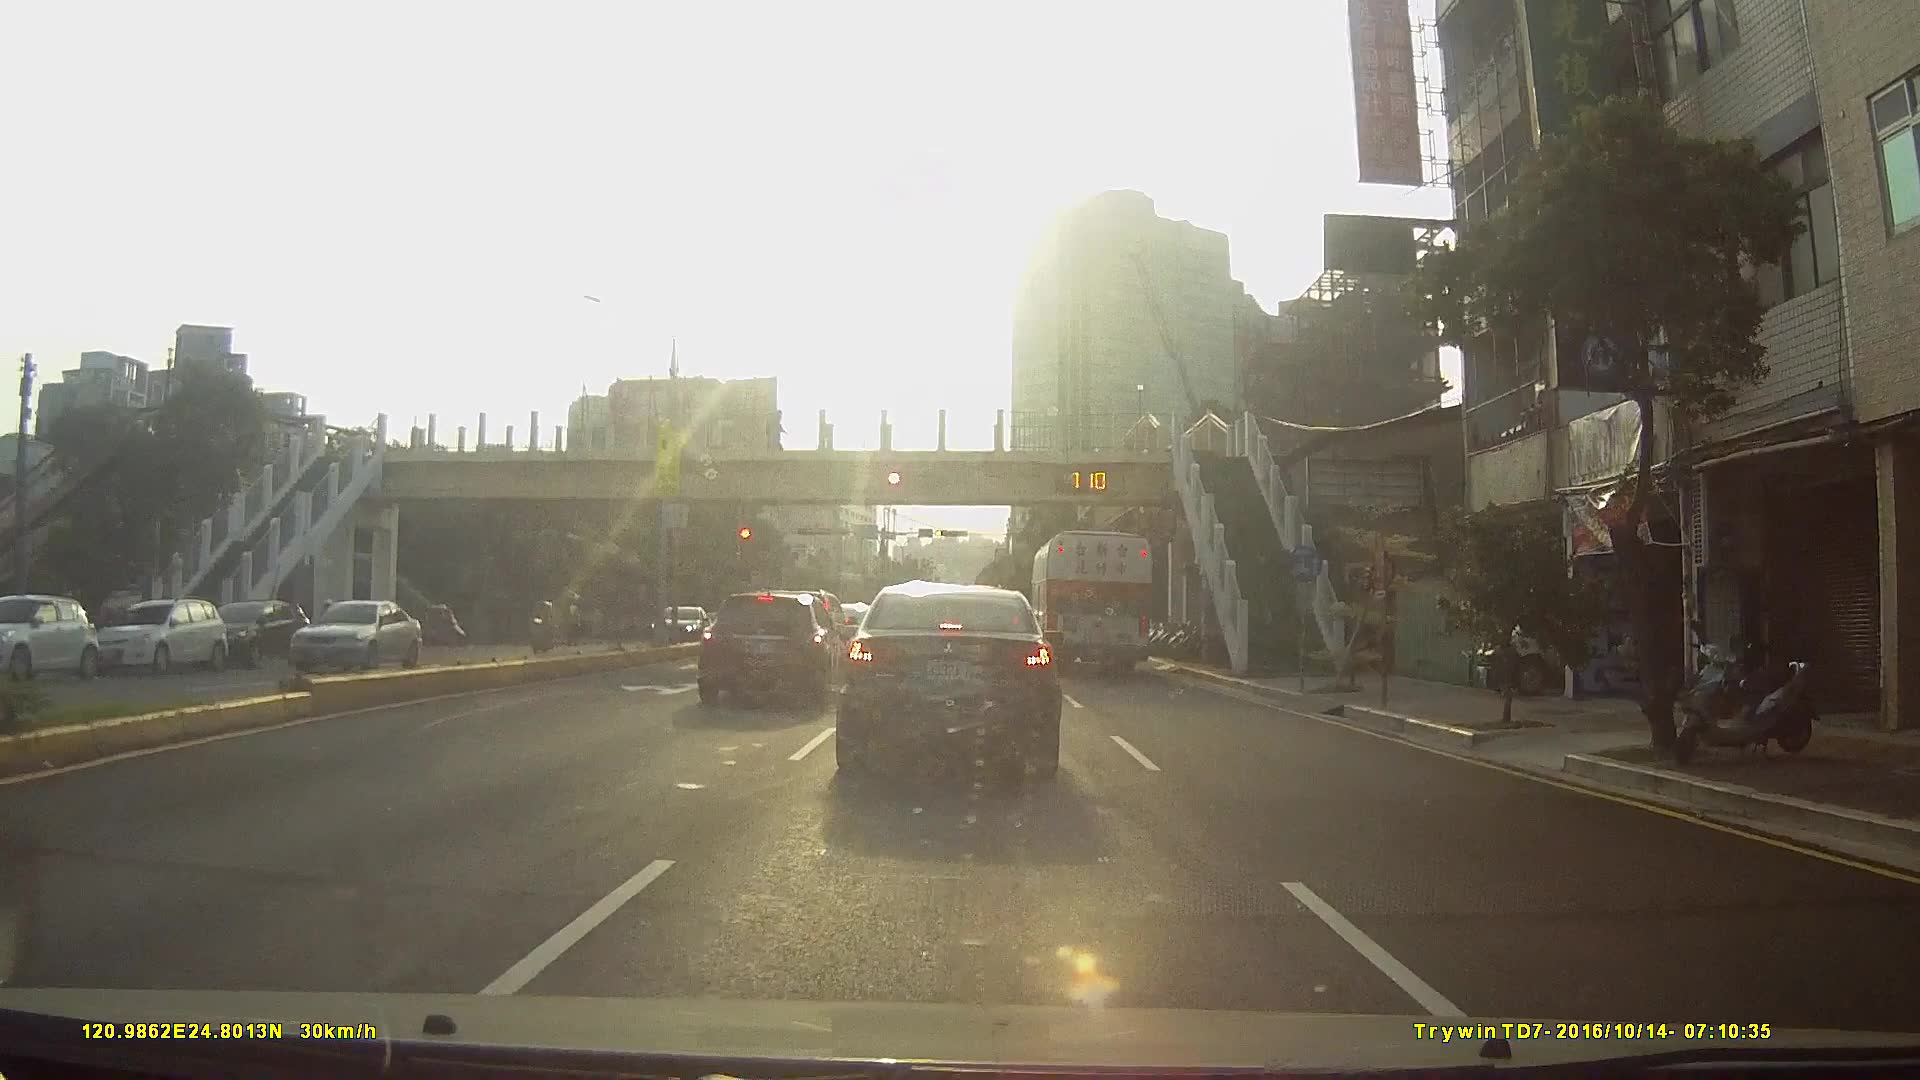pedestrian: (771, 402, 791, 448)
rider: (528, 599, 561, 656)
vehicle: (831, 582, 1065, 779), (690, 589, 850, 713), (1028, 529, 1153, 678), (273, 598, 416, 676), (85, 596, 224, 675), (0, 595, 94, 683), (200, 599, 305, 666), (645, 604, 708, 647)
